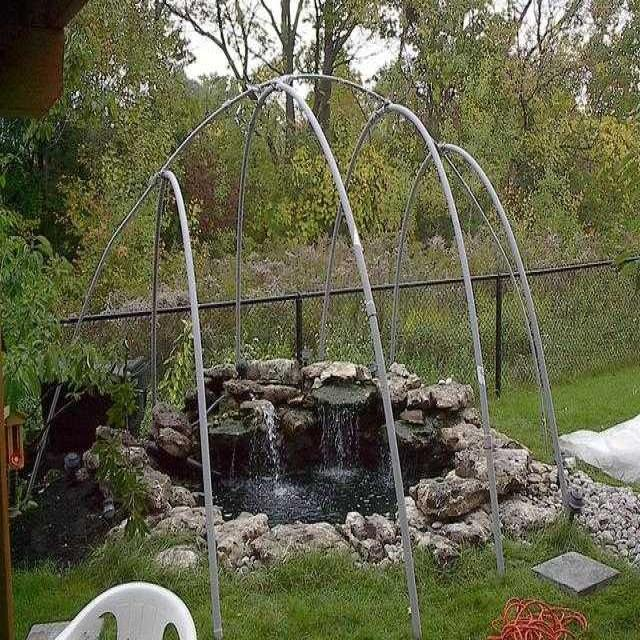Ponds: (102, 357, 545, 581)
